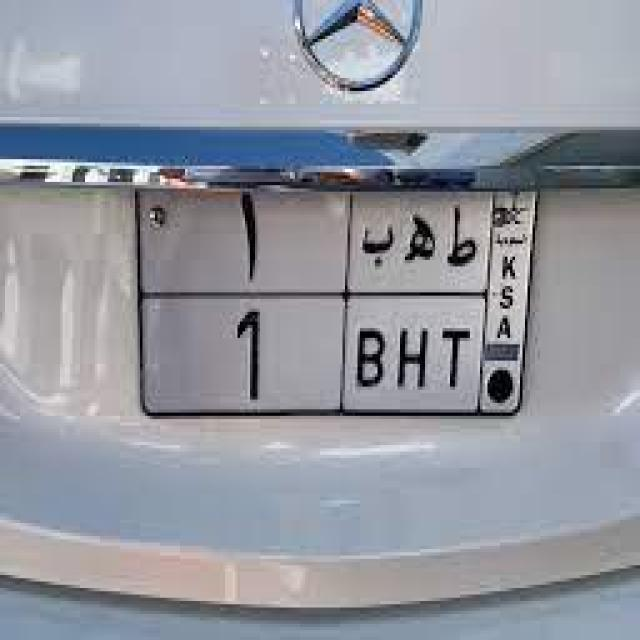license_plate: (102, 163, 542, 458)
